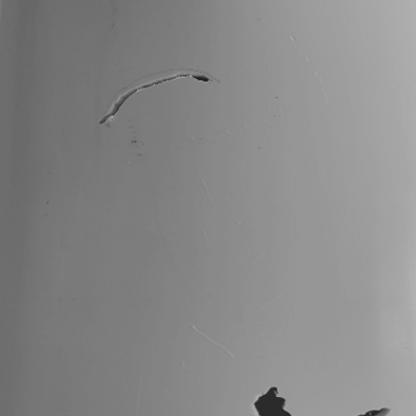fengxi: (100, 72, 214, 126), (355, 406, 394, 416)
kongdong: (252, 386, 296, 416)
